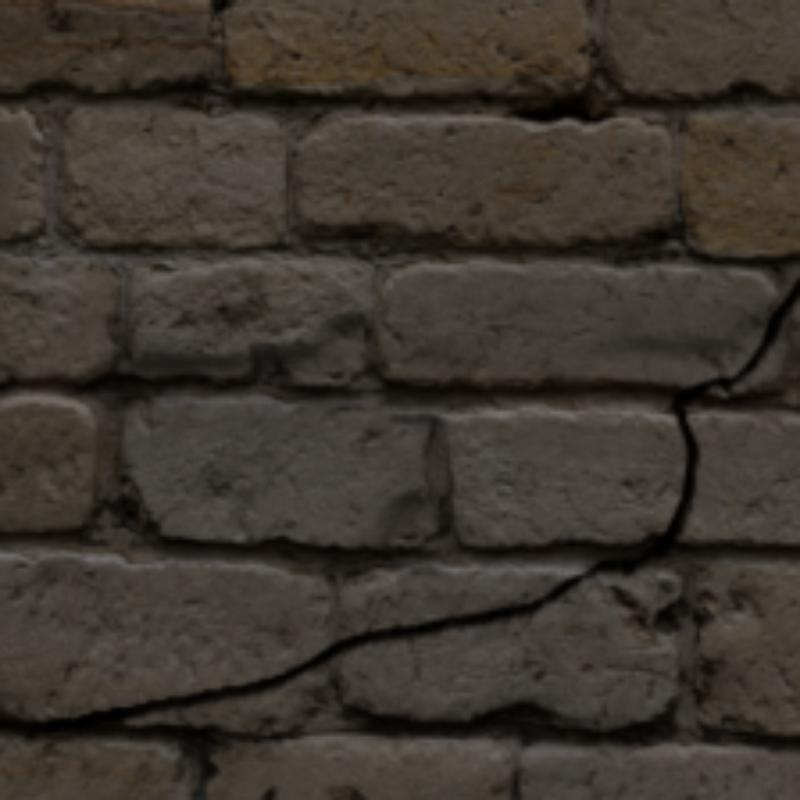pothole: (0, 279, 796, 736)
